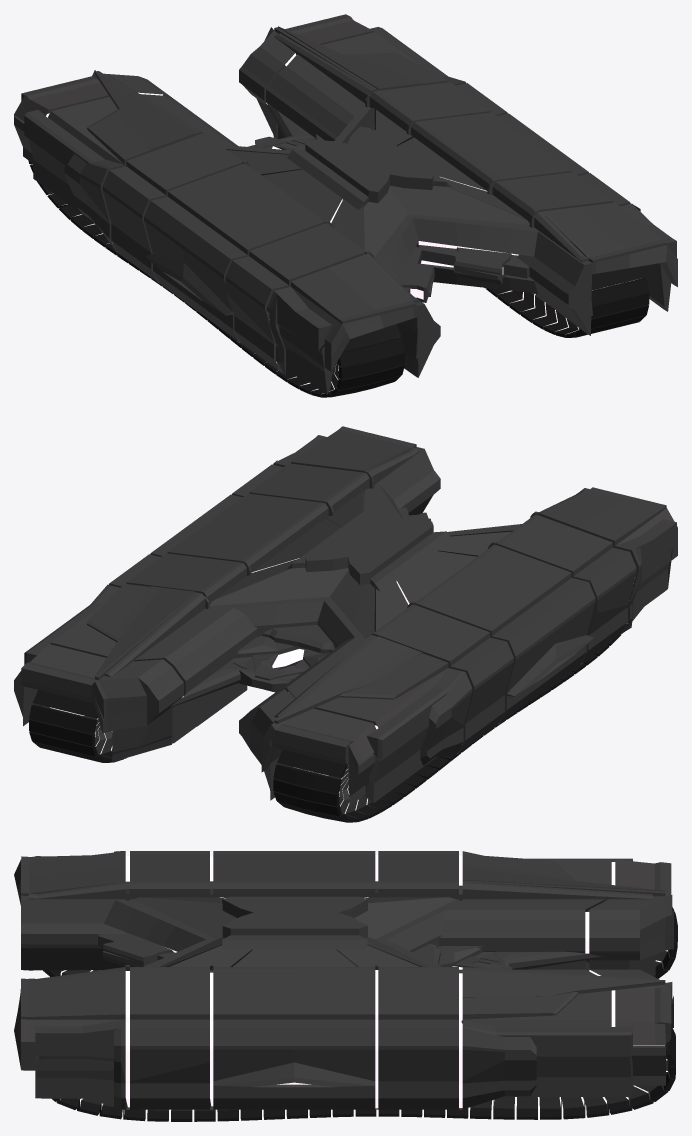
The model's file is scifi_tank_base.gltf.
The picture shows the model from 3 angles, top to bottom: view 1: azimuth 30°, elevation 25°; view 2: azimuth 150°, elevation 25°; view 3: azimuth 270°, elevation 25°; orthographic projection.
Parts seen in each view (by area): view 1: Tank Armature, Cube.001, Cube.000; view 2: Tank Armature, Cube.001, Cube.000; view 3: Tank Armature, Cube.000, Cube.001.
Boxes of the visible parts, box(x1,y1,x2,y2) form: Tank Armature: box(14, 14, 677, 394); Cube.001: box(28, 160, 404, 397); Cube.000: box(484, 266, 649, 337); Tank Armature: box(14, 426, 677, 805); Cube.001: box(273, 635, 620, 822); Cube.000: box(28, 690, 126, 762); Tank Armature: box(14, 851, 673, 1109); Cube.000: box(52, 1025, 675, 1121); Cube.001: box(43, 907, 677, 978).
Size of the model in its own units: 4.04 by 1.36 by 6.08.
